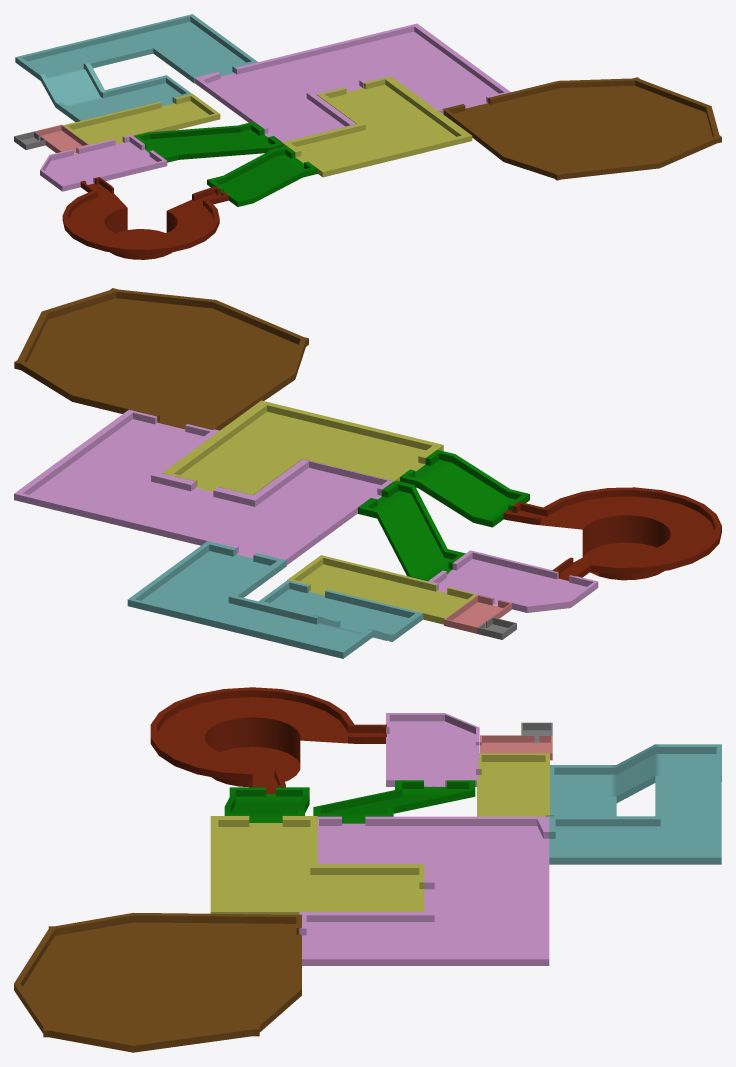
Rendered from BadUVGrayBox.obj.
3 views of the same model, one above another, from view 1: azimuth 30°, elevation 25°; view 2: azimuth 150°, elevation 25°; view 3: azimuth 270°, elevation 25° (orthographic). The views are drawn at different scales.
Parts seen in each view (by area): view 1: BossRoom, PreBossRoom, MintRoom, GardenRoom, HotCola, BigRoom, Pepper, RampRoom, RampRoom1, CandyCain, EntryRoom; view 2: BossRoom, PreBossRoom, MintRoom, GardenRoom, HotCola, BigRoom, Pepper, RampRoom, RampRoom1, CandyCain, EntryRoom; view 3: BossRoom, PreBossRoom, MintRoom, GardenRoom, HotCola, BigRoom, Pepper, RampRoom, RampRoom1, CandyCain.
Boxes of the visible parts, x1=… form: BossRoom: x1=442, y1=77, x2=721, y2=180; PreBossRoom: x1=194, y1=23, x2=510, y2=142; MintRoom: x1=15, y1=14, x2=257, y2=122; GardenRoom: x1=282, y1=76, x2=472, y2=177; HotCola: x1=62, y1=177, x2=228, y2=259; BigRoom: x1=40, y1=135, x2=167, y2=191; Pepper: x1=63, y1=93, x2=220, y2=144; RampRoom: x1=134, y1=121, x2=283, y2=162; RampRoom1: x1=207, y1=146, x2=317, y2=206; CandyCain: x1=34, y1=124, x2=88, y2=153; EntryRoom: x1=14, y1=131, x2=45, y2=149; BossRoom: x1=14, y1=288, x2=308, y2=430; PreBossRoom: x1=14, y1=409, x2=393, y2=565; MintRoom: x1=127, y1=541, x2=423, y2=658; GardenRoom: x1=162, y1=400, x2=443, y2=495; HotCola: x1=503, y1=487, x2=721, y2=580; BigRoom: x1=427, y1=550, x2=598, y2=612; Pepper: x1=287, y1=555, x2=477, y2=624; RampRoom: x1=358, y1=480, x2=465, y2=580; RampRoom1: x1=400, y1=449, x2=529, y2=527; CandyCain: x1=444, y1=595, x2=511, y2=633; EntryRoom: x1=477, y1=617, x2=516, y2=639; BossRoom: x1=14, y1=912, x2=301, y2=1052; PreBossRoom: x1=299, y1=816, x2=549, y2=965; MintRoom: x1=548, y1=744, x2=721, y2=864; GardenRoom: x1=210, y1=816, x2=424, y2=914; HotCola: x1=150, y1=687, x2=386, y2=793; BigRoom: x1=386, y1=713, x2=479, y2=786; Pepper: x1=477, y1=753, x2=549, y2=816; RampRoom: x1=313, y1=780, x2=475, y2=823; RampRoom1: x1=224, y1=787, x2=309, y2=822; CandyCain: x1=480, y1=735, x2=552, y2=760.
Size of the model in its own units: 831 by 58.32 by 655.
